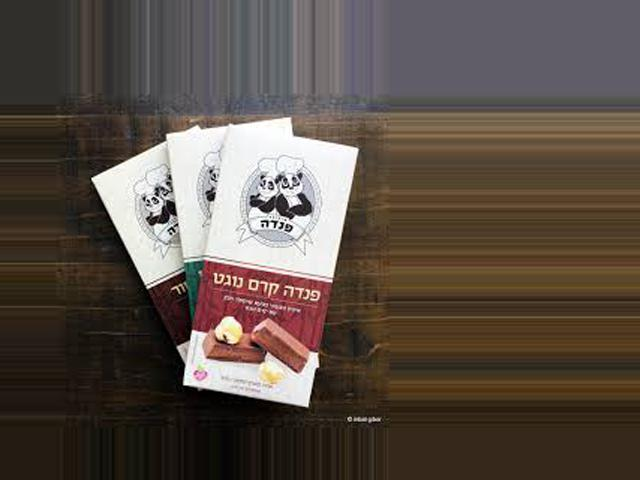chocolate: (87, 117, 268, 404)
